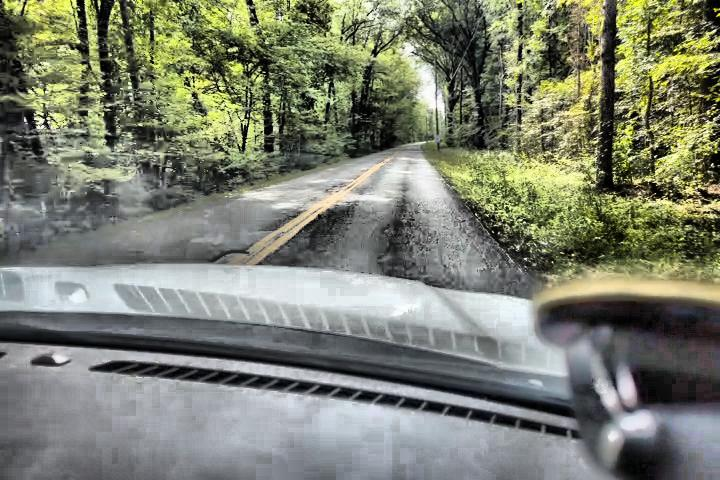pothole: (211, 243, 259, 266)
